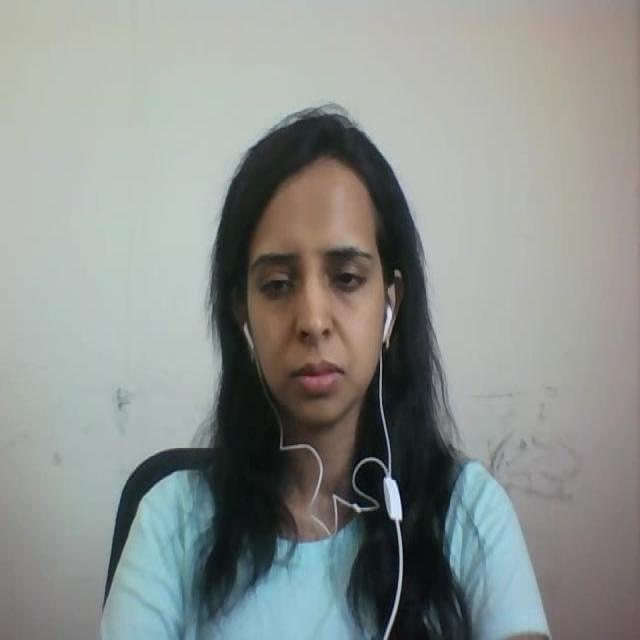Bored: (202, 98, 466, 436)
